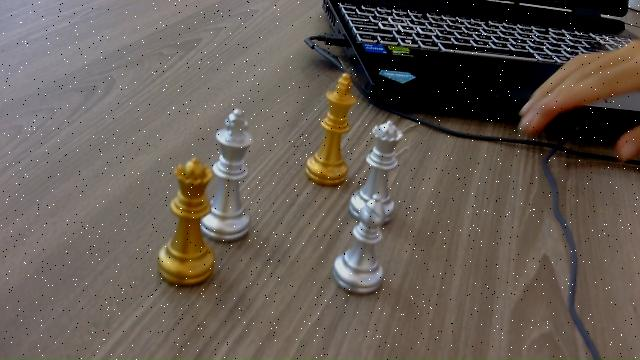black_king: (305, 73, 358, 186)
black_queen: (157, 159, 214, 285)
white_bishop: (332, 198, 387, 294)
white_king: (207, 108, 256, 241)
white_queen: (367, 120, 405, 223)
